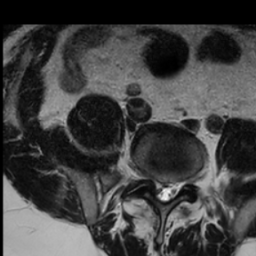CCS_normal: (162, 173, 169, 207)
LFS_severe_stenosis: (180, 172, 190, 195)
LLS_normal: (170, 174, 179, 203)
RFS_severe_stenosis: (145, 166, 154, 187)
RLS_normal: (154, 173, 162, 204)
